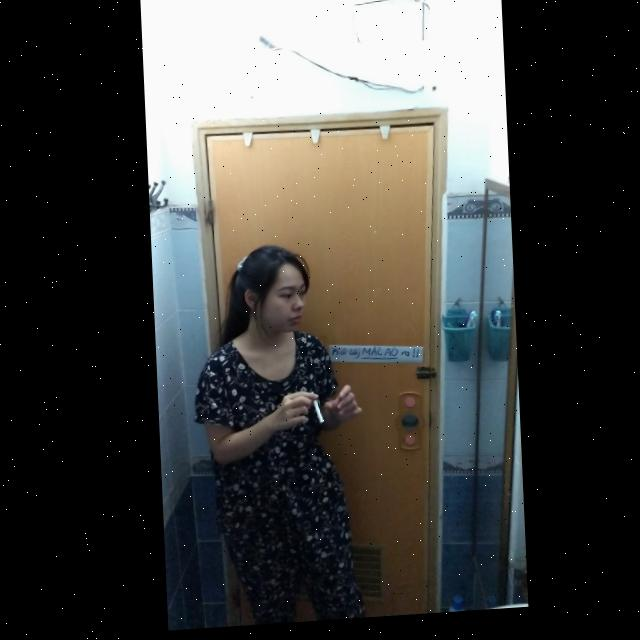cigarette: (309, 403, 319, 428)
